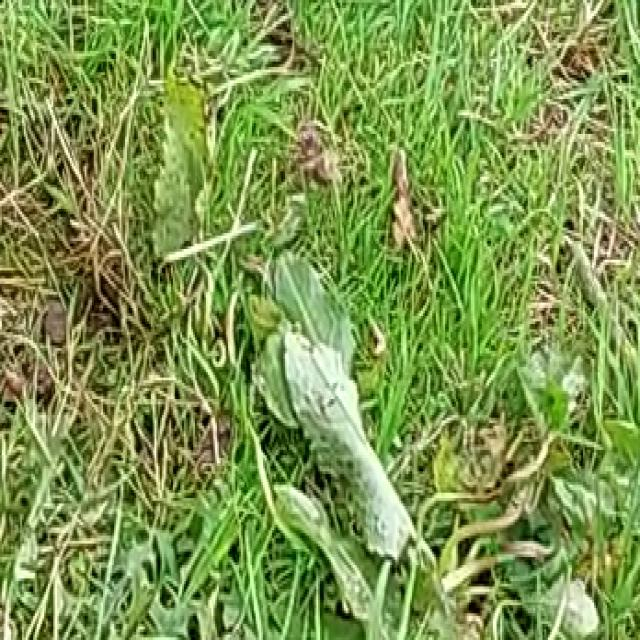organic waste: (197, 225, 555, 640)
